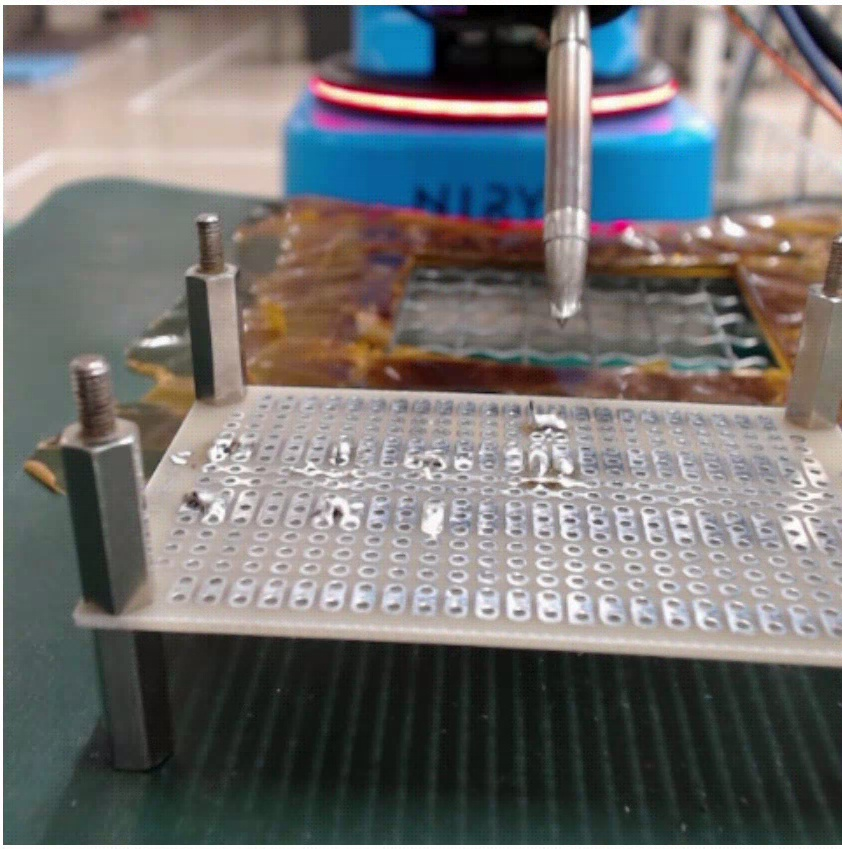soldering_iron: (541, 6, 593, 324)
